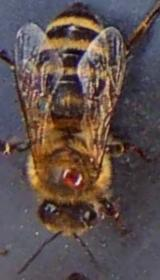varroa_mite: (51, 157, 92, 197)
